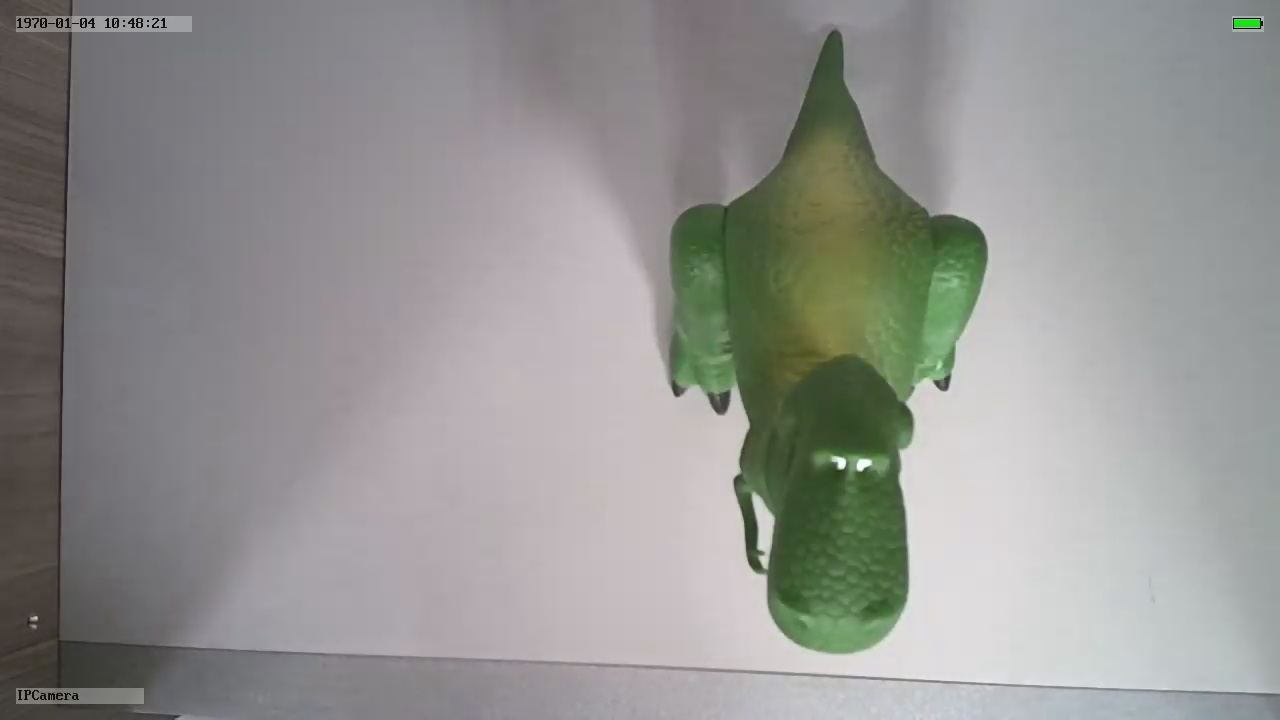rex: (669, 102, 988, 655)
